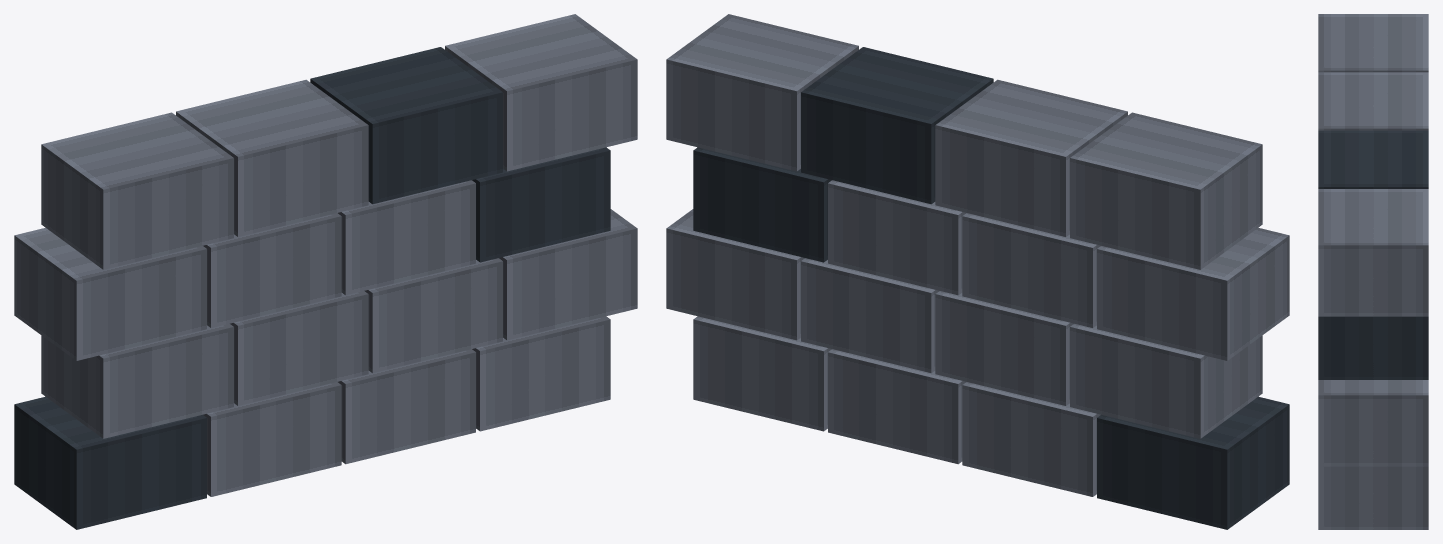
File: ruin_wall_small_forest.gltf
3 views of the same model, side by side, from view 1: azimuth 30°, elevation 25°; view 2: azimuth 150°, elevation 25°; view 3: azimuth 270°, elevation 25° (orthographic). The views are drawn at different scales.
Parts seen in each view (by area): view 1: root_mesh; view 2: root_mesh; view 3: root_mesh.
Boxes of the visible parts, x1=… form: root_mesh: x1=14, y1=14, x2=637, y2=529; root_mesh: x1=666, y1=14, x2=1289, y2=529; root_mesh: x1=1318, y1=14, x2=1428, y2=529.
Size of the model in its own units: 2.61 by 1.48 by 0.5.
Materials: 1 (1 with a texture image).
